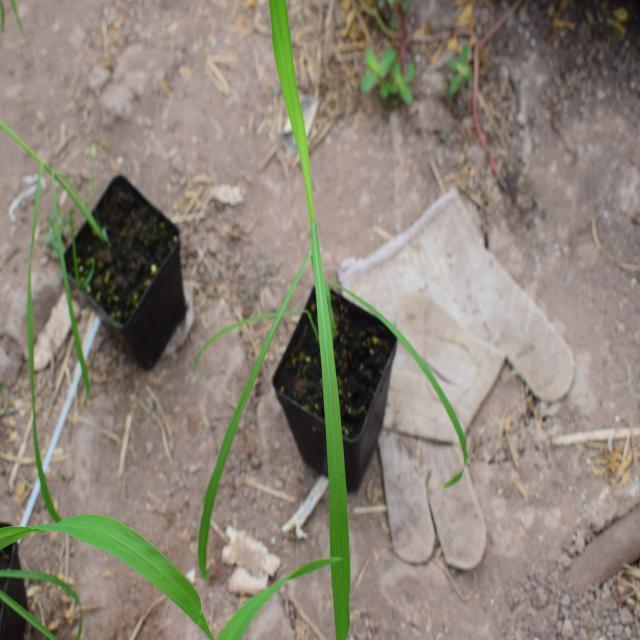barnyard_grass: (208, 13, 412, 592)
